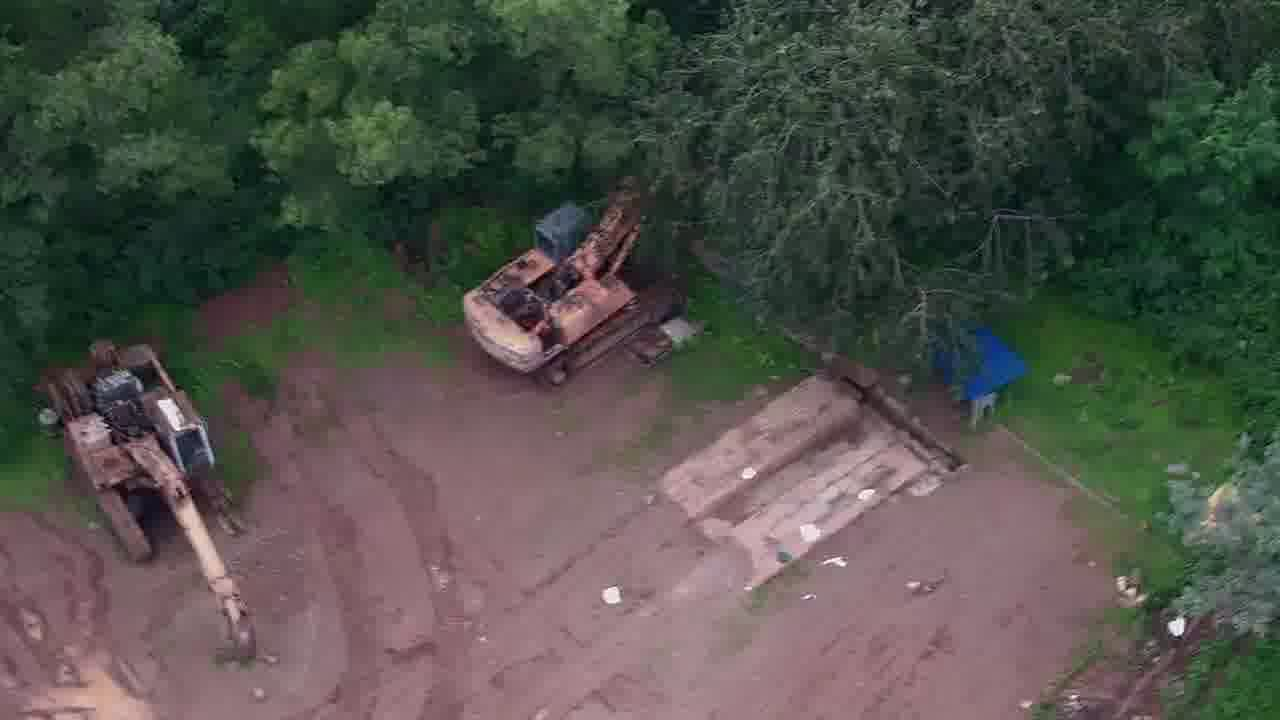HMV: (35, 331, 255, 662), (456, 186, 661, 386)
